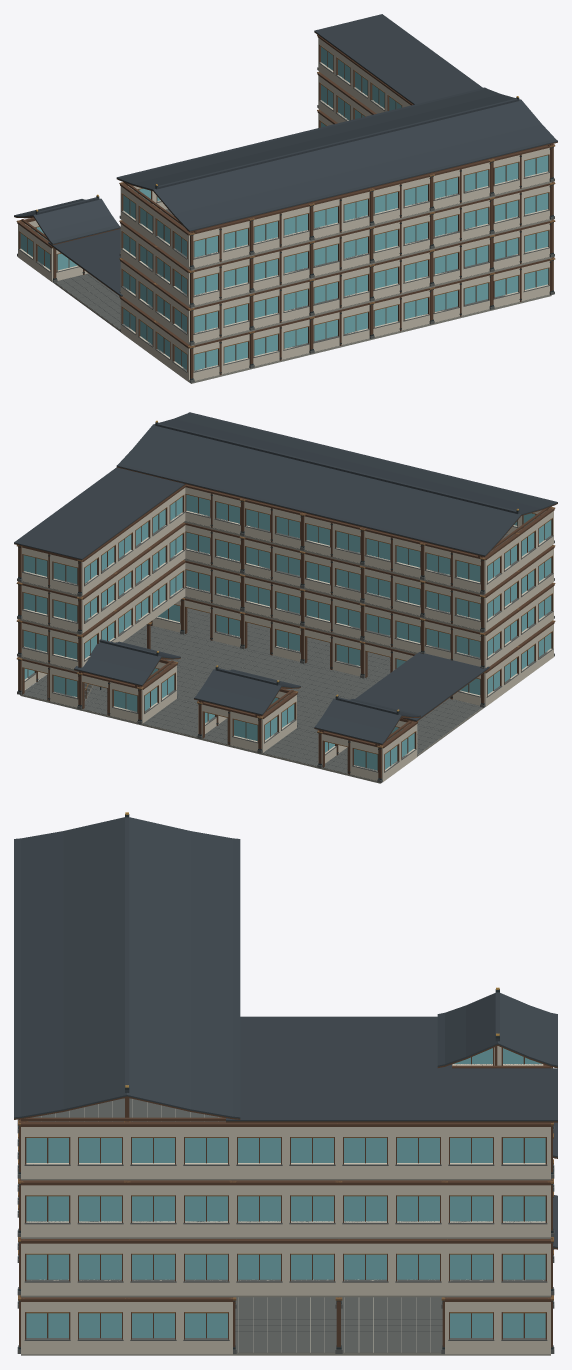
File: visual-far.glb
3 renders of one model, top to bottom at view 1: azimuth 30°, elevation 25°; view 2: azimuth 150°, elevation 25°; view 3: azimuth 270°, elevation 25°, orthographic. The views are drawn at different scales.
Visible parts, largest first — view 1: 参数墙 · 独立窗玻璃 (×37), 连续屋面 · gable (×2), 连续屋面 · flat (×2), 石铺面与混凝土楼板 (×2); view 2: 参数墙 · 独立窗玻璃 (×38), 连续屋面 · gable (×4), 石铺面与混凝土楼板 (×17), 参数墙 · 通行门洞 (×10), 连续屋面 · flat (×2); view 3: 参数墙 · 独立窗玻璃 (×19), 连续屋面 · gable (×2), 连续屋面 · flat (×2), 石铺面与混凝土楼板 (×6).
Boxes of the visible parts, x1,y1,x2,y2 form: 参数墙 · 独立窗玻璃 (×37): (17, 35, 550, 381); 连续屋面 · gable (×2): (14, 87, 557, 245); 连续屋面 · flat (×2): (48, 14, 482, 297); 石铺面与混凝土楼板 (×2): (54, 273, 120, 331); 参数墙 · 独立窗玻璃 (×38): (20, 484, 554, 781); 连续屋面 · gable (×4): (74, 412, 557, 745); 石铺面与混凝土楼板 (×17): (20, 614, 483, 783); 参数墙 · 通行门洞 (×10): (21, 598, 481, 780); 连续屋面 · flat (×2): (14, 467, 489, 721); 参数墙 · 独立窗玻璃 (×19): (21, 1046, 550, 1354); 连续屋面 · gable (×2): (14, 812, 557, 1121); 连续屋面 · flat (×2): (226, 1016, 557, 1122); 石铺面与混凝土楼板 (×6): (28, 1098, 444, 1355).
Size of the model in its own units: 36.8 by 16.68 by 30.4.
14 materials, 14 textured.
